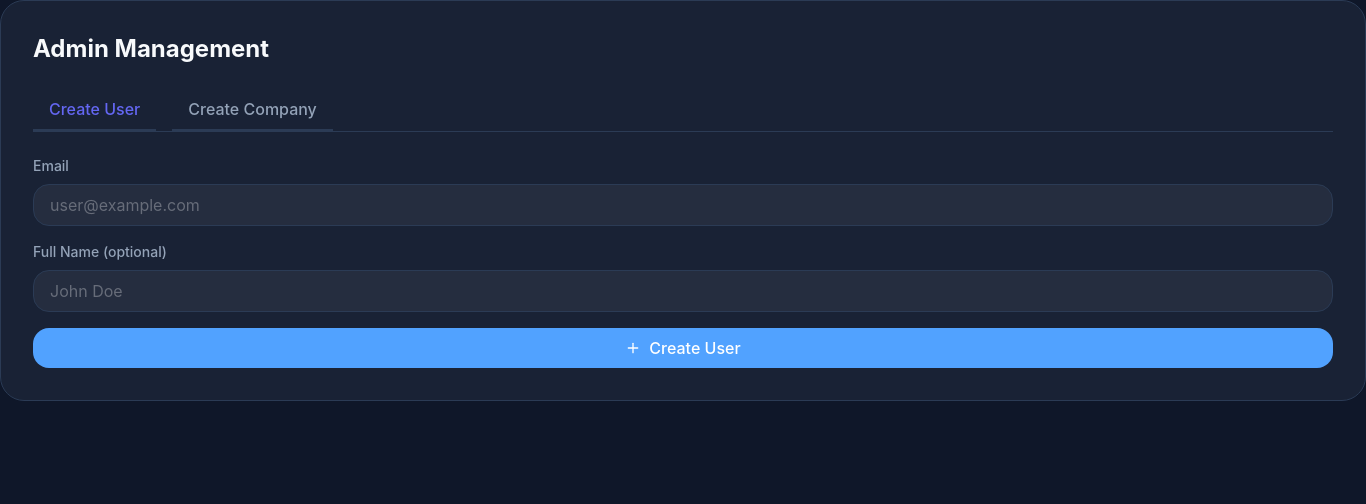
Test case: Admin Management Panel › Create Company Tab › renders create company form
The width and height of the screenshot is (1366, 504).
What coordinates should you click on to do the following:
click the button "Create Company"
I would click on:
 (253, 110)
Its box is 172,89 -> 333,131.
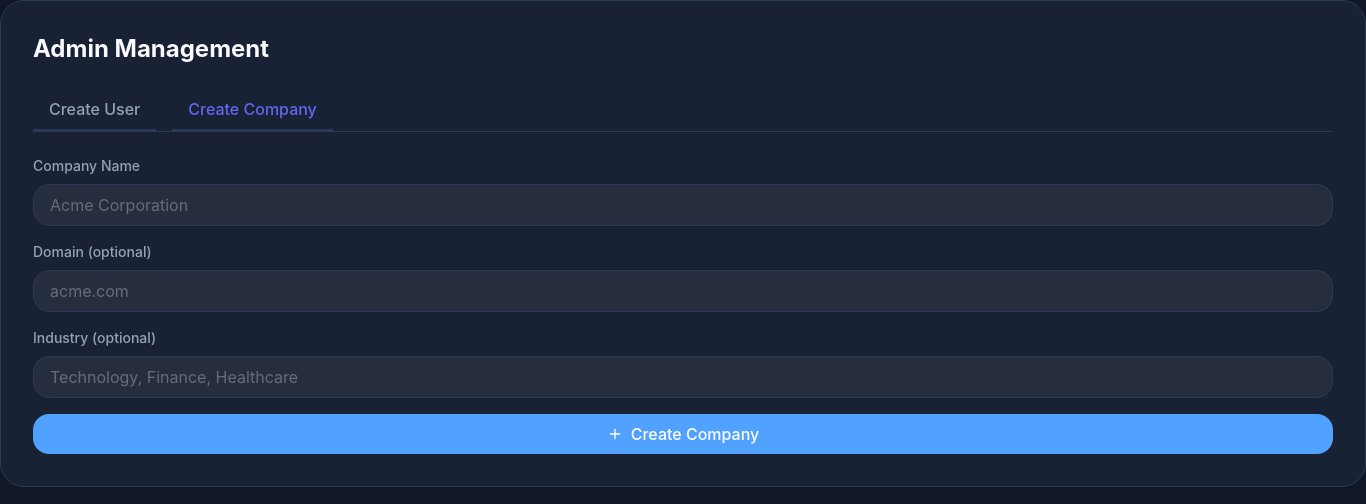
Expected: the field with placeholder "Acme Corporation" is shown, 33,184 -> 1333,226
Expected: the field with placeholder "acme.com" is shown, 33,270 -> 1333,312
